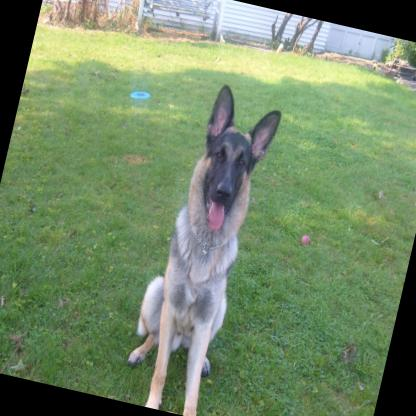German_shepherd: (117, 75, 287, 416)
